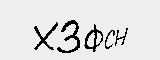З: (59, 19, 83, 52)
Н: (112, 24, 129, 51)
С: (104, 27, 115, 53)
Ф: (82, 22, 104, 54)
Х: (31, 21, 59, 53)
